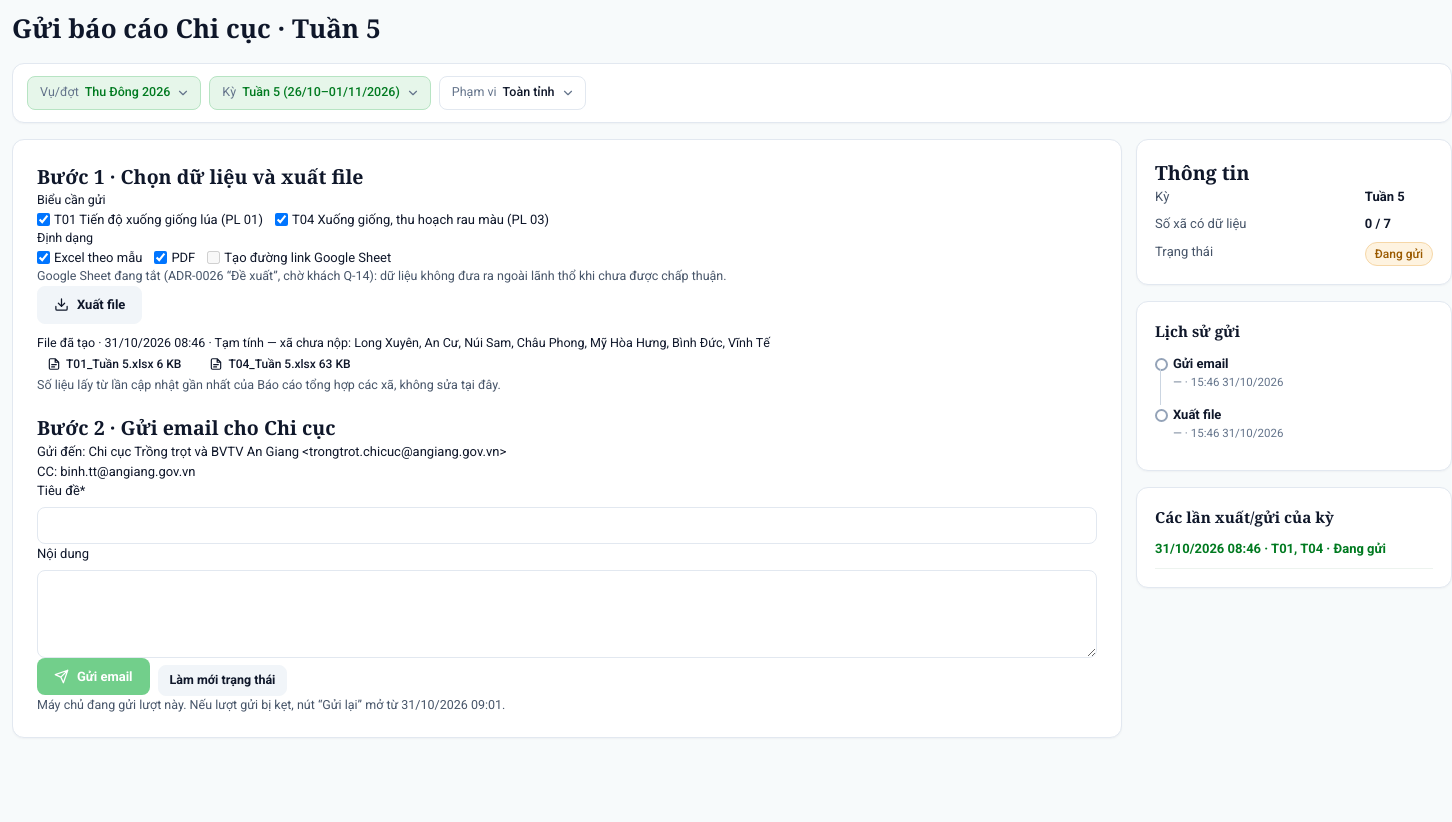
Test: Báo cáo Chi cục — Gửi lại khi lượt gửi kẹt (review #128) › màn: còn hạn khóa nút + hiện mốc mở; quá hạn mở “Gửi lại (tiếp tục lượt đang kẹt)” và bấm được
Check: the element with test id "dispatch-status" reads "Đang gửi", box [1375,247,1423,261]
Check: the button "Gửi email" is disabled, box [37,658,150,695]
What coordinates should you click on to do the following:
click the button "Làm mới trạng thái"
I would click on:
 (222, 680)
Its box is [158,665,287,696].
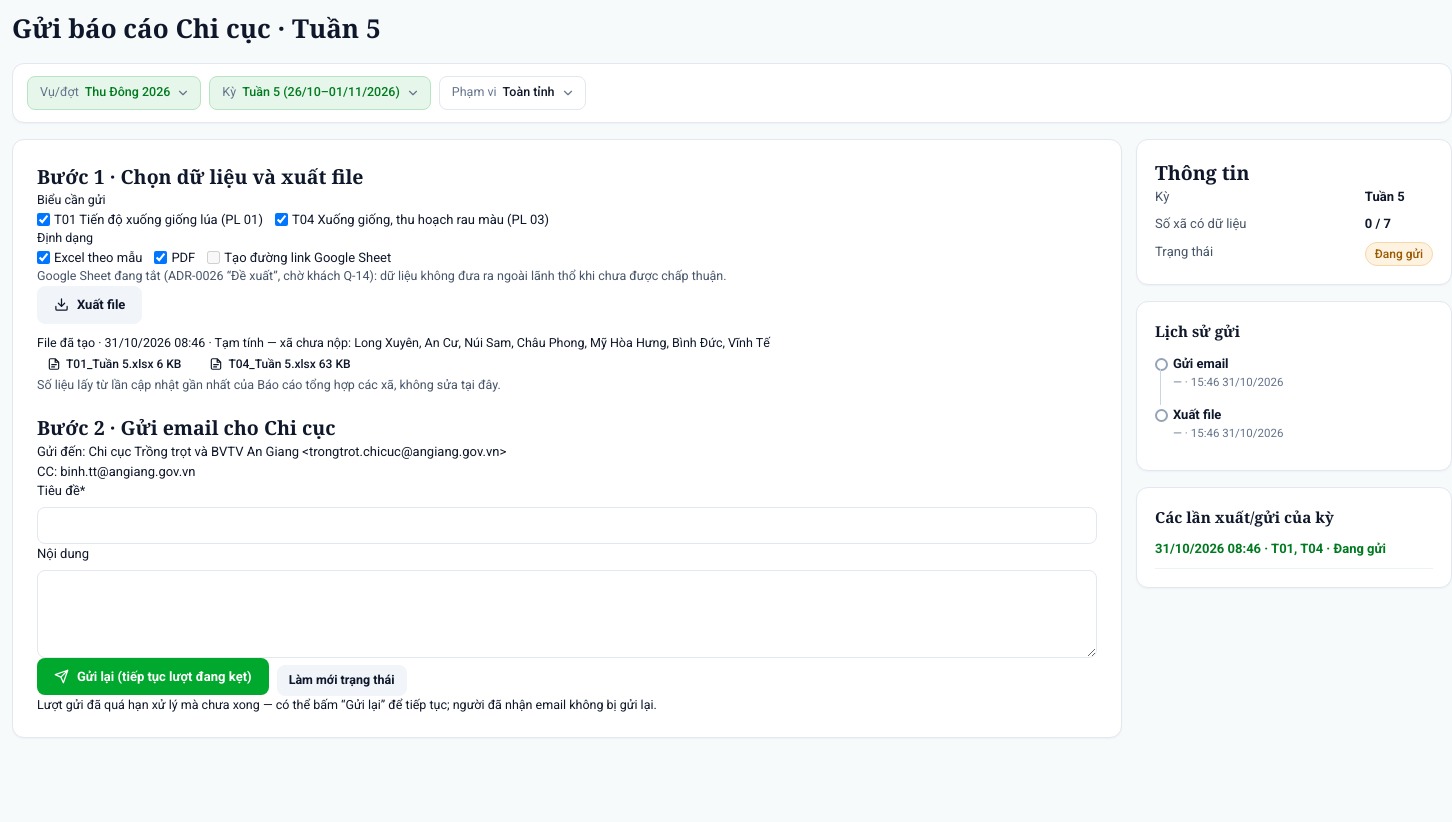
Check: the button "Gửi lại (tiếp tục lượt đang kẹt)" is enabled
Check: the text with test id "dispatch-resend-hint" shows "quá hạn xử lý", box [37,697,657,712]
What coordinates should you click on to do the following:
click the button "Gửi lại (tiếp tục lượt đang kẹt)"
I would click on:
 (153, 677)
Its box is [37,658,269,695].
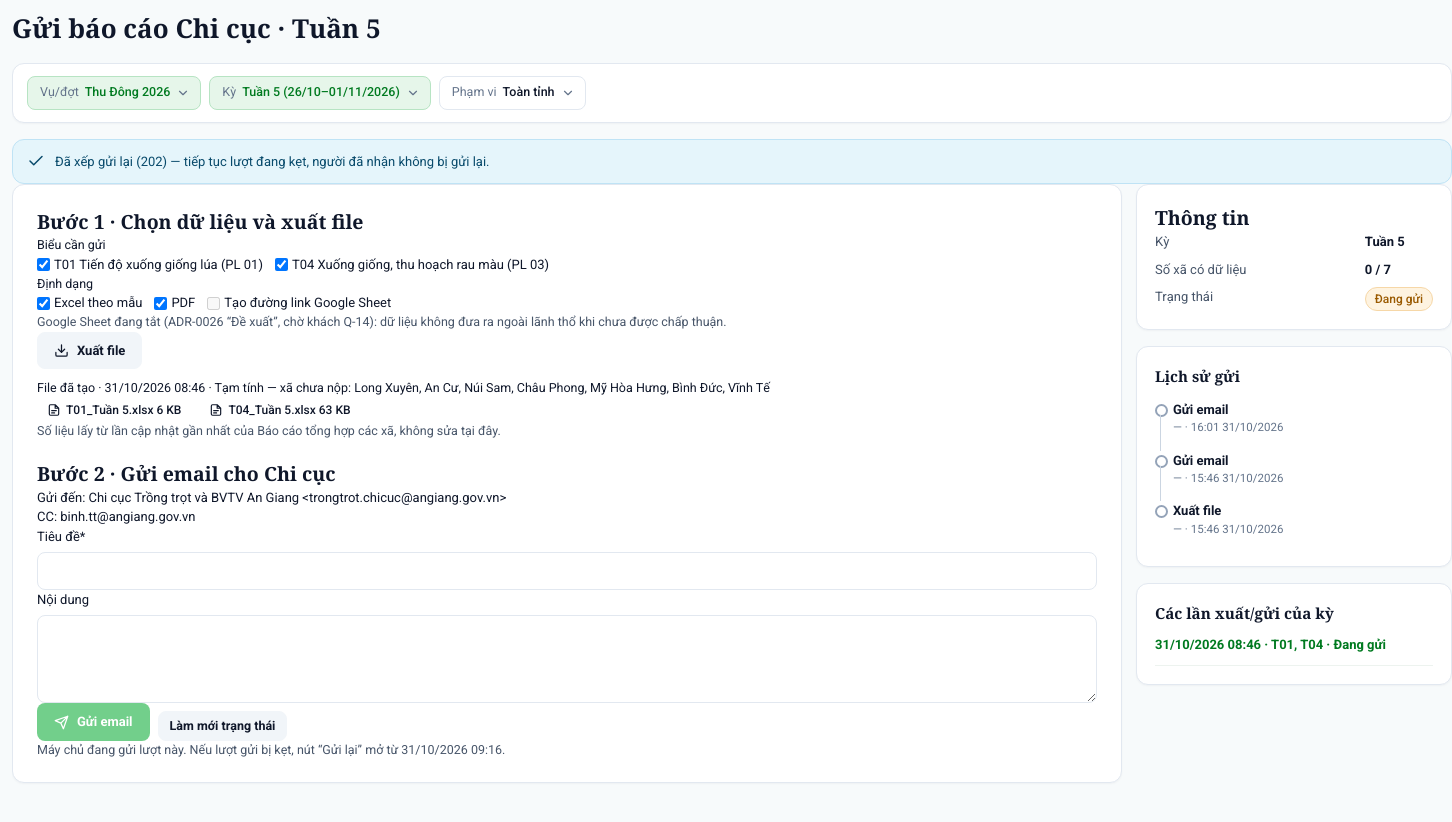
Check: the text "Đã xếp gửi lại (202) — tiếp tục lượt đang kẹt" is shown, box [55,154,490,168]
Check: the button "Gửi email" is disabled, box [37,703,150,741]
